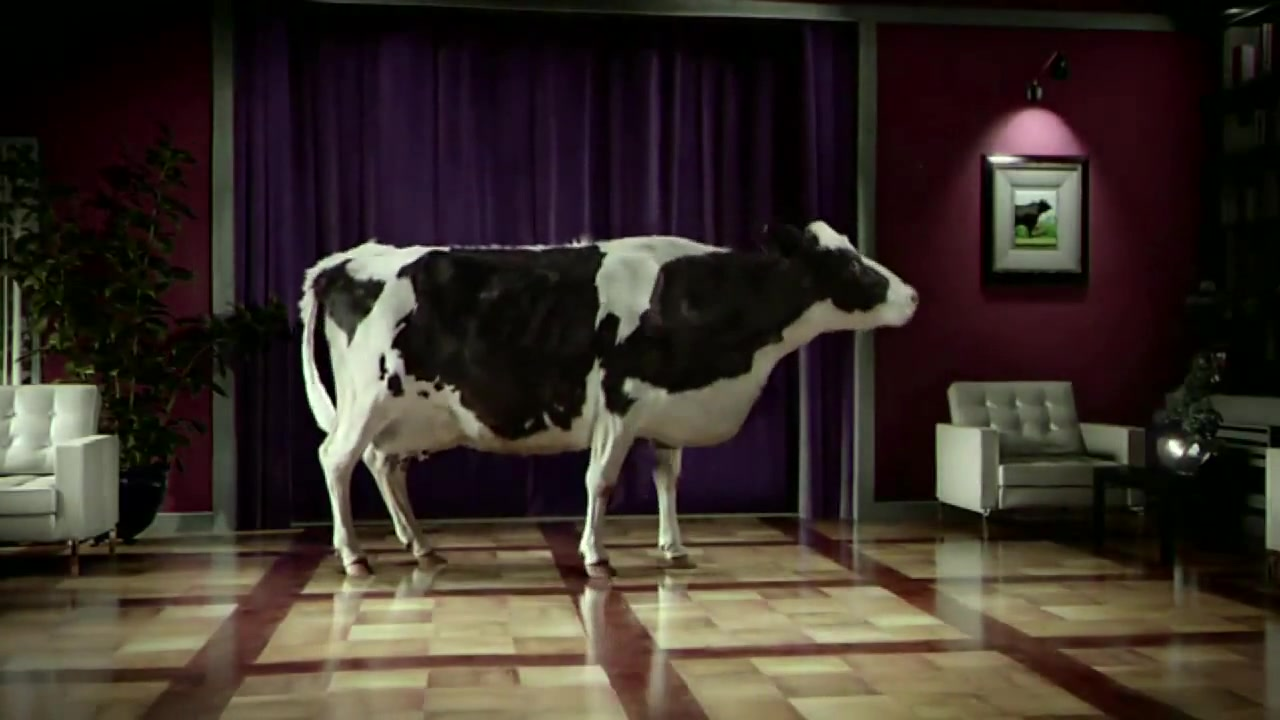cow: (300, 213, 920, 583)
